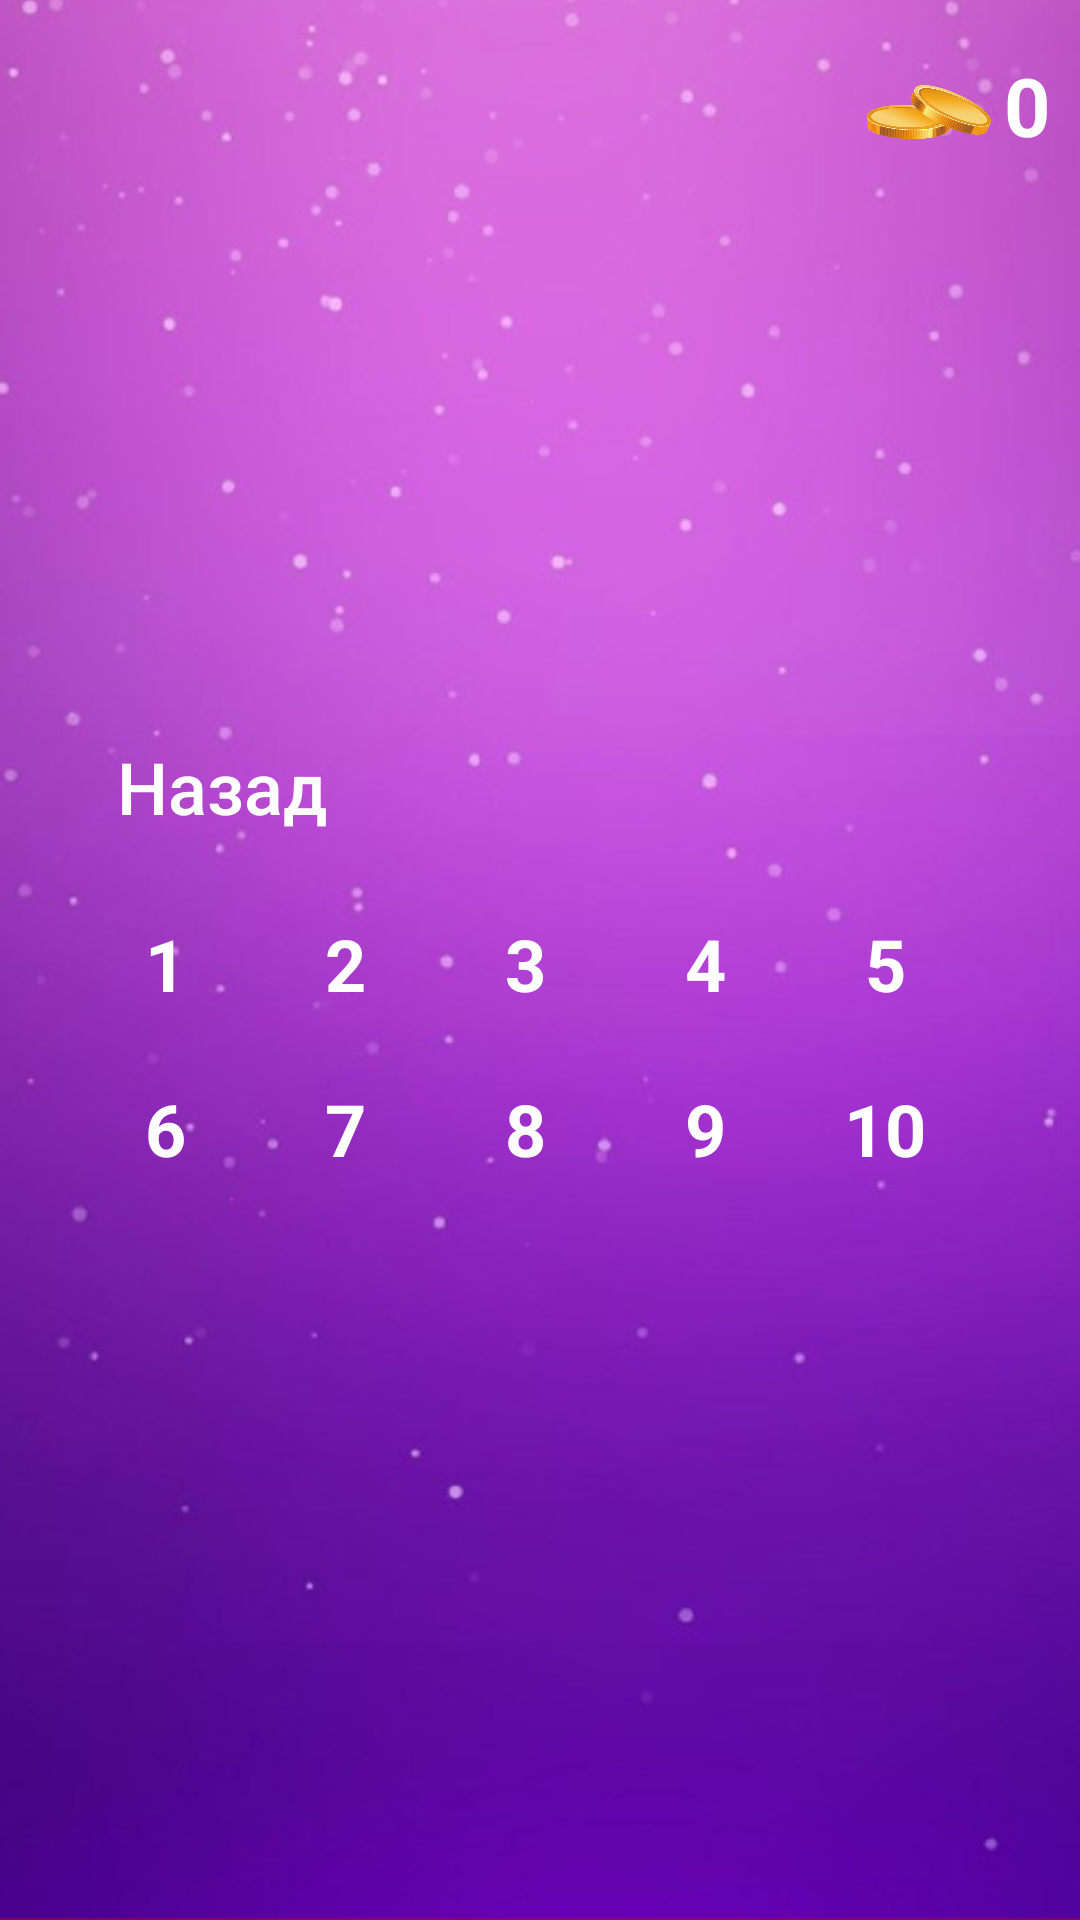

Icon click points for this 1080w x 1920h phone screenshot, format point (x, y):
all coin: point (929, 88)
